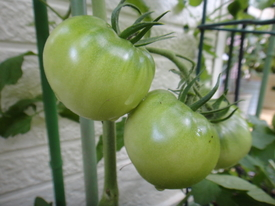stems: (182, 81, 195, 109)
tomato: (42, 14, 155, 122), (123, 89, 219, 190), (213, 108, 252, 170)
